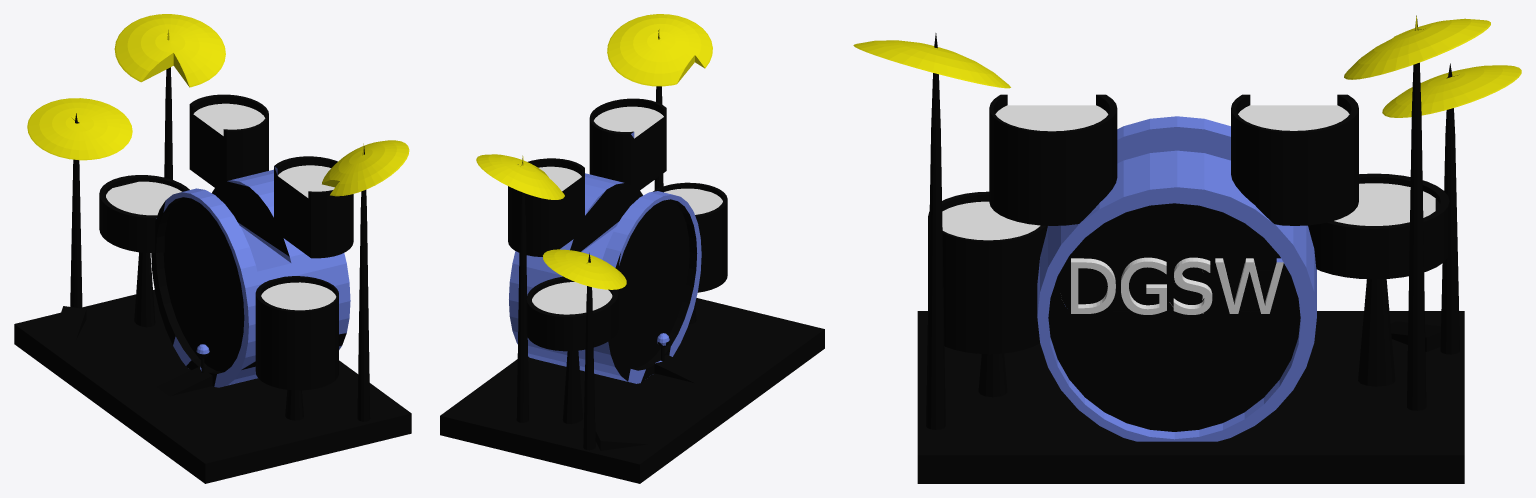
File: Drum.fbx
3 renders of one model, left to right at view 1: azimuth 30°, elevation 25°; view 2: azimuth 150°, elevation 25°; view 3: azimuth 270°, elevation 25°, orthographic. The views are drawn at different scales.
Visible parts, largest first — view 1: daring_waasa_1; view 2: daring_waasa_1; view 3: daring_waasa_1.
Boxes of the visible parts, x1,y1,x2,y2 form: daring_waasa_1: [14, 14, 411, 483]; daring_waasa_1: [440, 14, 824, 483]; daring_waasa_1: [853, 15, 1521, 483].
Size of the model in its own units: 3650 by 5000 by 7151.
